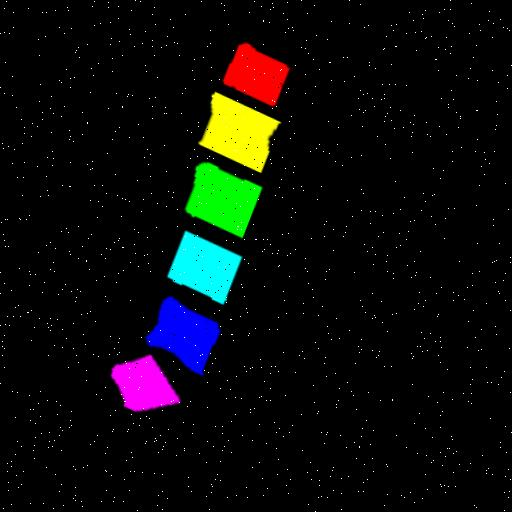L1: (224, 38, 289, 101)
L2: (198, 88, 280, 168)
L3: (185, 158, 262, 233)
L4: (168, 227, 243, 299)
L5: (146, 294, 220, 371)
S1: (112, 353, 181, 407)
